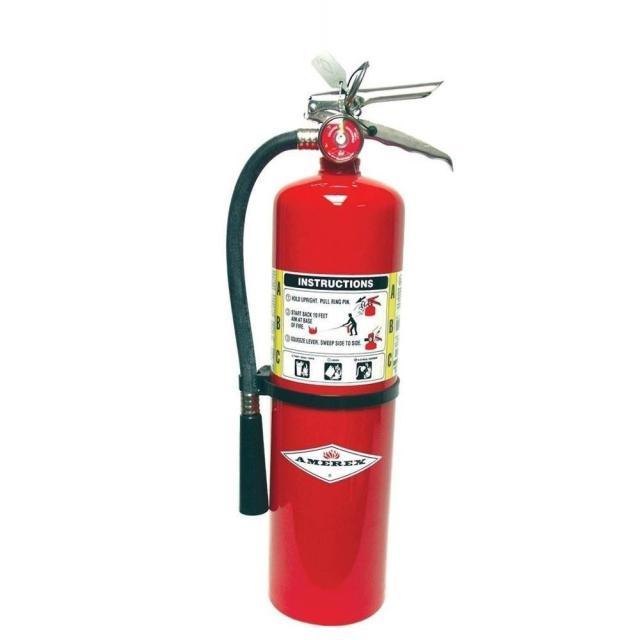fire_extinguisher: (216, 46, 459, 629)
